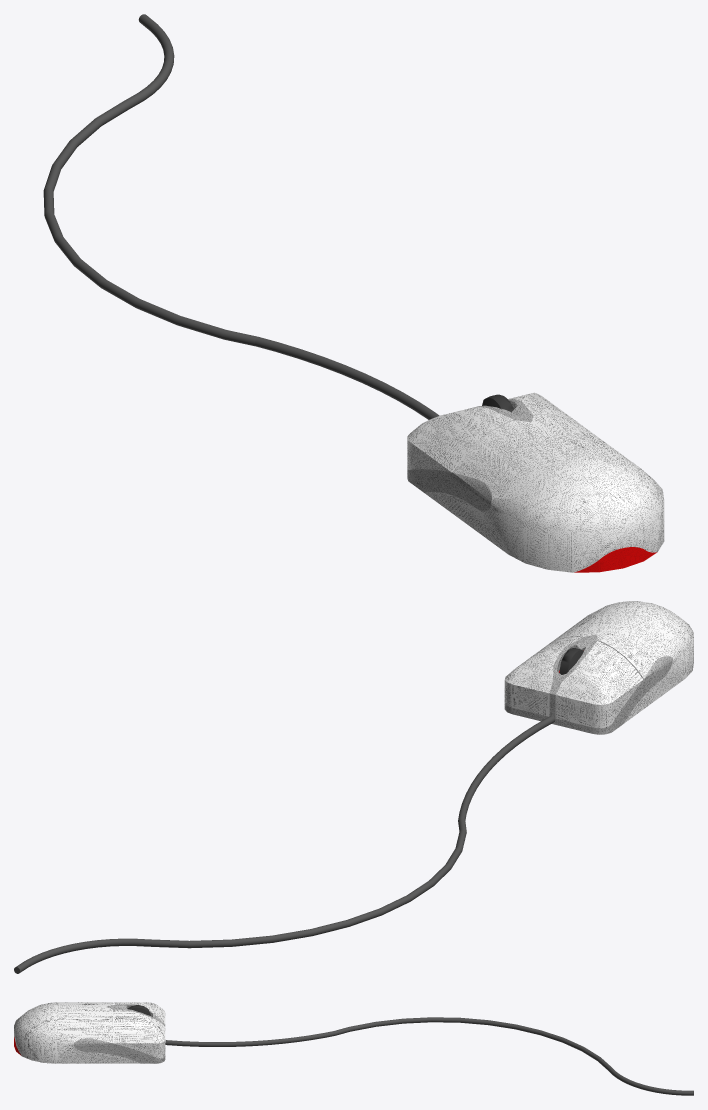
Rendered from mouse.dae.
3 views of the same model, one above another, from view 1: azimuth 30°, elevation 25°; view 2: azimuth 150°, elevation 25°; view 3: azimuth 270°, elevation 25° (orthographic). The views are drawn at different scales.
Parts seen in each view (by area): view 1: Group_375 (×4), group_1; view 2: Group_375 (×5), group_1; view 3: Group_375 (×5), group_1.
Part boxes in pixels (box(x1,y1,x2,y2)): Group_375 (×4): box(407, 406, 664, 572); group_1: box(43, 14, 439, 419); Group_375 (×5): box(504, 601, 693, 734); group_1: box(14, 715, 555, 973); Group_375 (×5): box(14, 1002, 165, 1063); group_1: box(165, 1017, 693, 1095).
Size of the model in its own units: 5.04 by 19.15 by 1.26.
